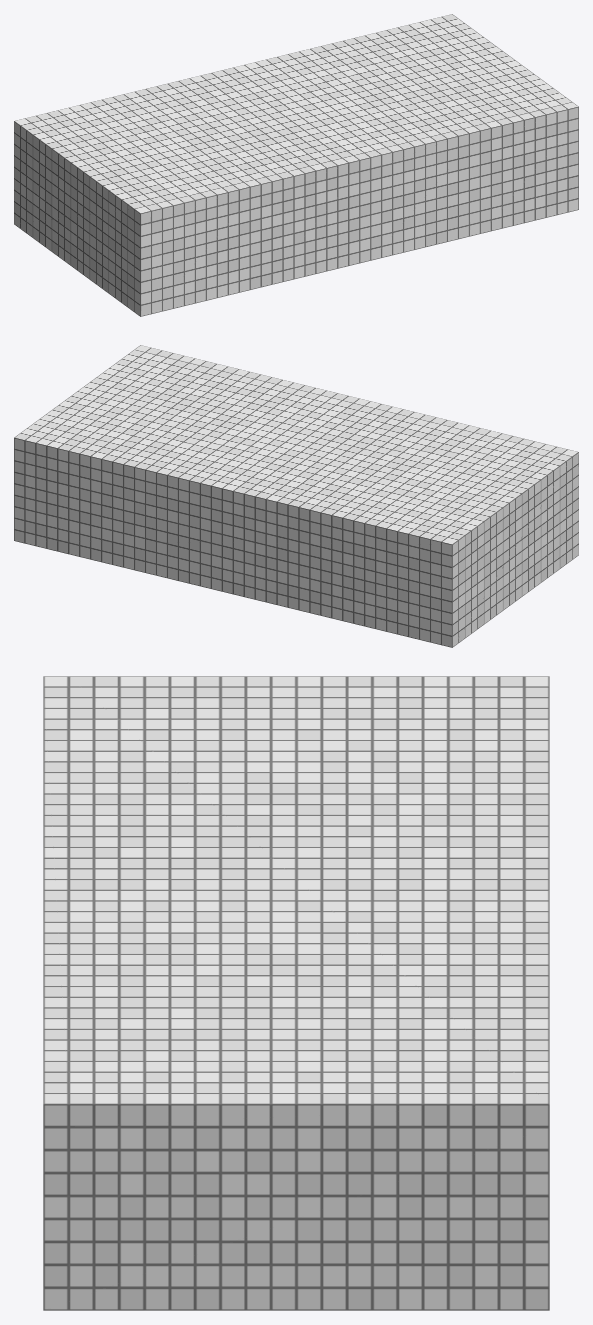
File: stage_platform.glb
The picture shows the model from 3 angles, top to bottom: view 1: azimuth 30°, elevation 25°; view 2: azimuth 150°, elevation 25°; view 3: azimuth 270°, elevation 25°; orthographic projection. The views are drawn at different scales.
Visible parts, largest first — view 1: stage_platform; view 2: stage_platform; view 3: stage_platform.
Part boxes in pixels (x1,y1,x2,y2): stage_platform: (14,14,578,316); stage_platform: (14,345,578,647); stage_platform: (43,676,549,1310).
Size of the model in its own units: 2 by 0.45 by 1.
2 materials, 2 textured.
